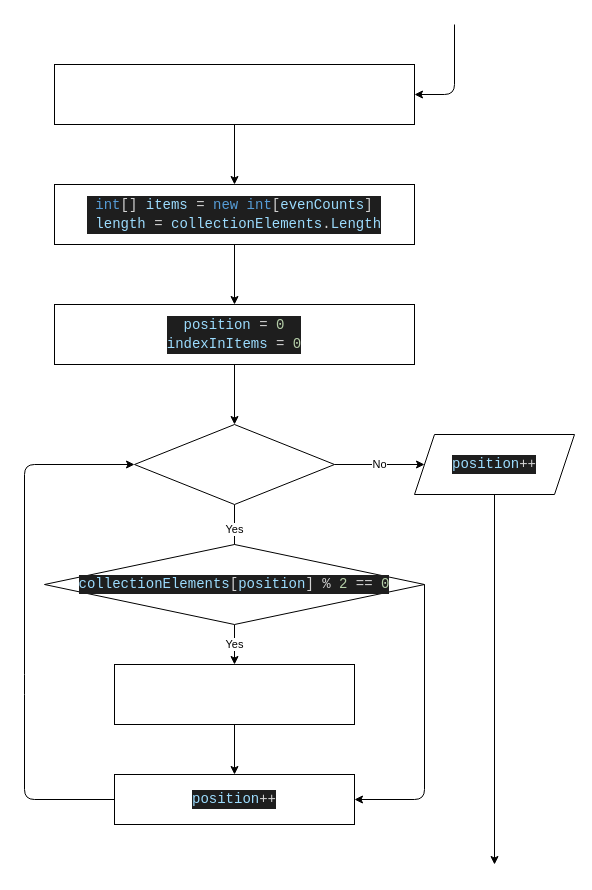
Some shapes in this 592 by 890 pixel diagram are drawn without their labels. Here are the shapes that lost their labels. From the top down, the centre of each, then its label:
At [234,94]: "int [] Solution ( int [] collectionElements , int evenCounts )".
At [234,464]: "position < length".
At [234,694]: "items [ indexInItems ] = collectionElements [ position ] indexInItems ++".
